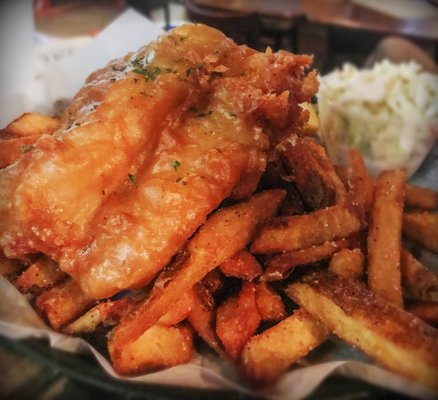soup: (2, 23, 386, 390)
